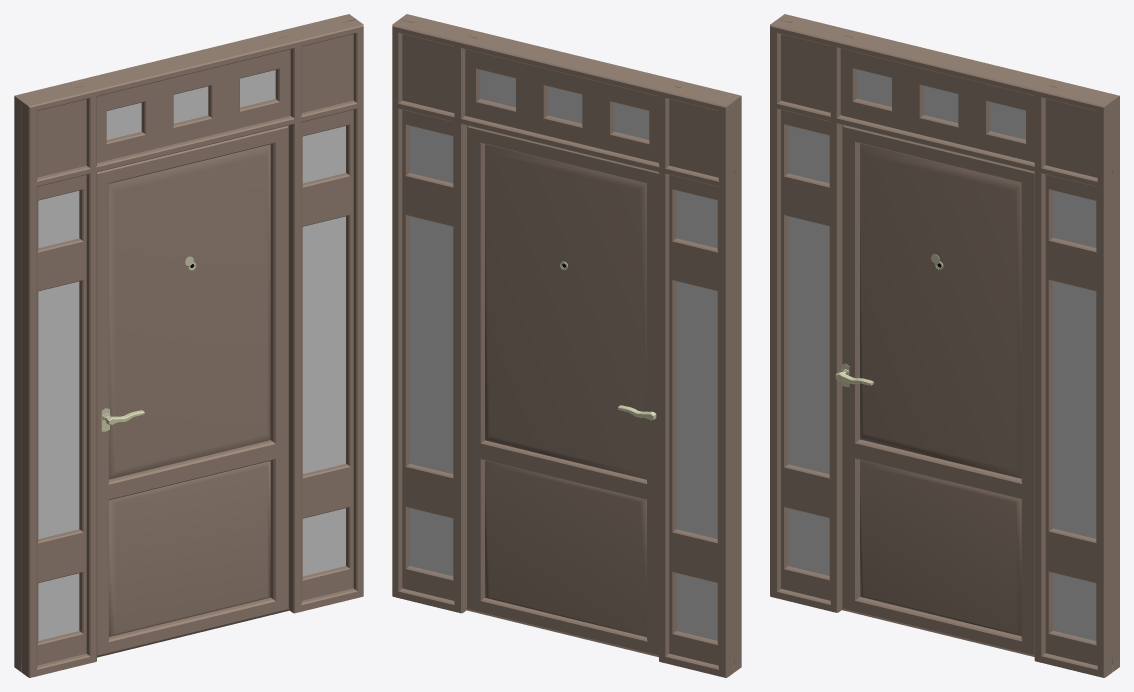
File: Door_Main.fbx
3 renders of one model, left to right at view 1: azimuth 30°, elevation 25°; view 2: azimuth 150°, elevation 25°; view 3: azimuth 330°, elevation 25°, orthographic.
Parts seen in each view (by area): view 1: Door_main, DoorBase:Door; view 2: Door_main, DoorBase:Door; view 3: Door_main, DoorBase:Door.
Boxes of the visible parts, <box> form: Door_main: <box>14,14,363,677</box>; DoorBase:Door: <box>97,125,289,657</box>; Door_main: <box>392,14,741,677</box>; DoorBase:Door: <box>467,125,658,657</box>; Door_main: <box>770,14,1119,677</box>; DoorBase:Door: <box>842,125,1034,656</box>.
Size of the model in its own units: 147 by 240 by 17.41.
